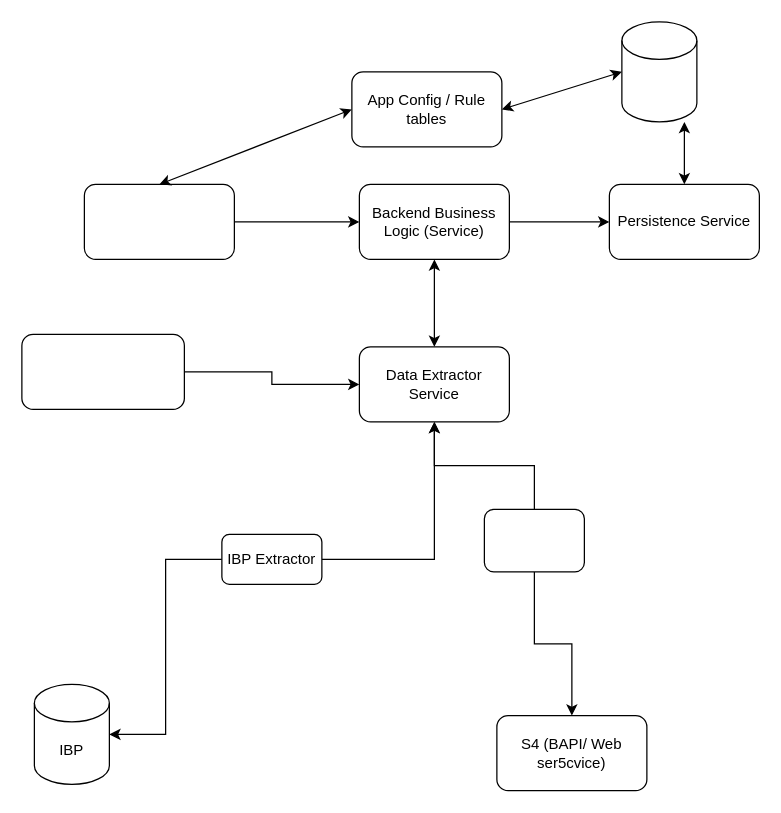
Image size: 781x813. Some labels were removed from this diagram. Each missing label, with the centre of its shape:
"Connection Config (Destination Service)" belongs at [102,371].
"S4 Extractor" belongs at [533,540].
"UI" belongs at [158,221].
